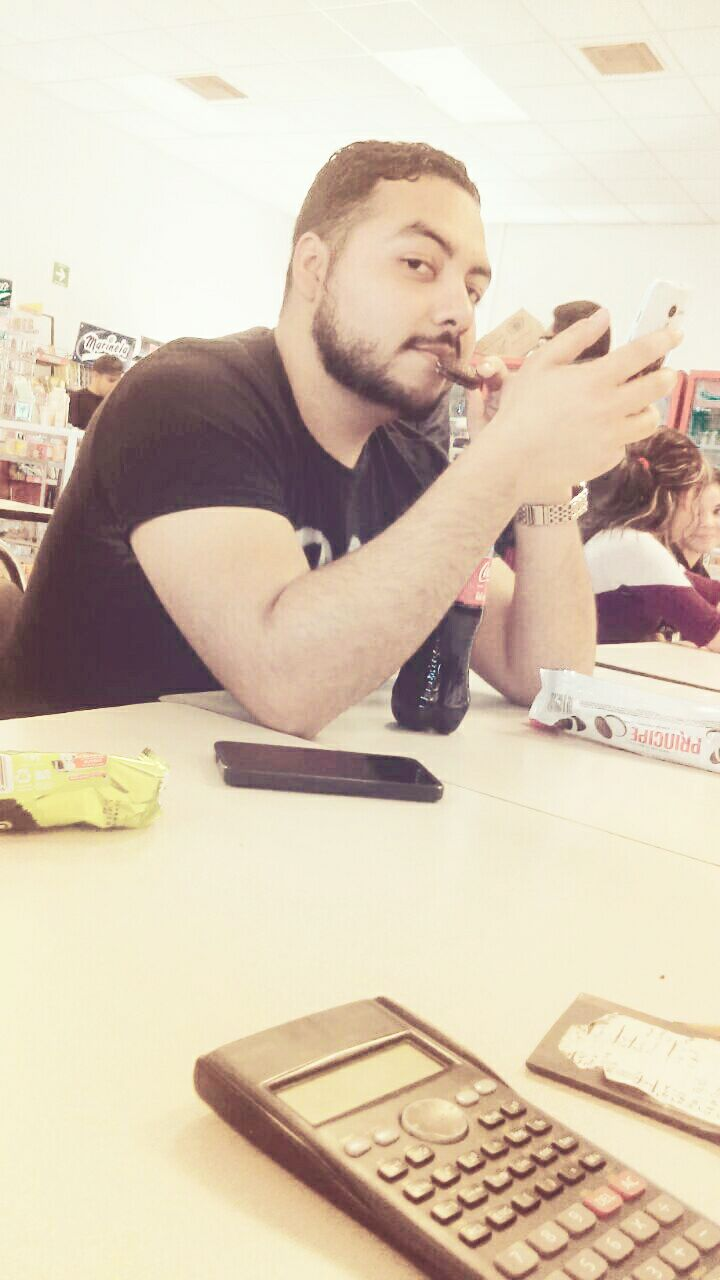Yoshi: (131, 107, 664, 687)
